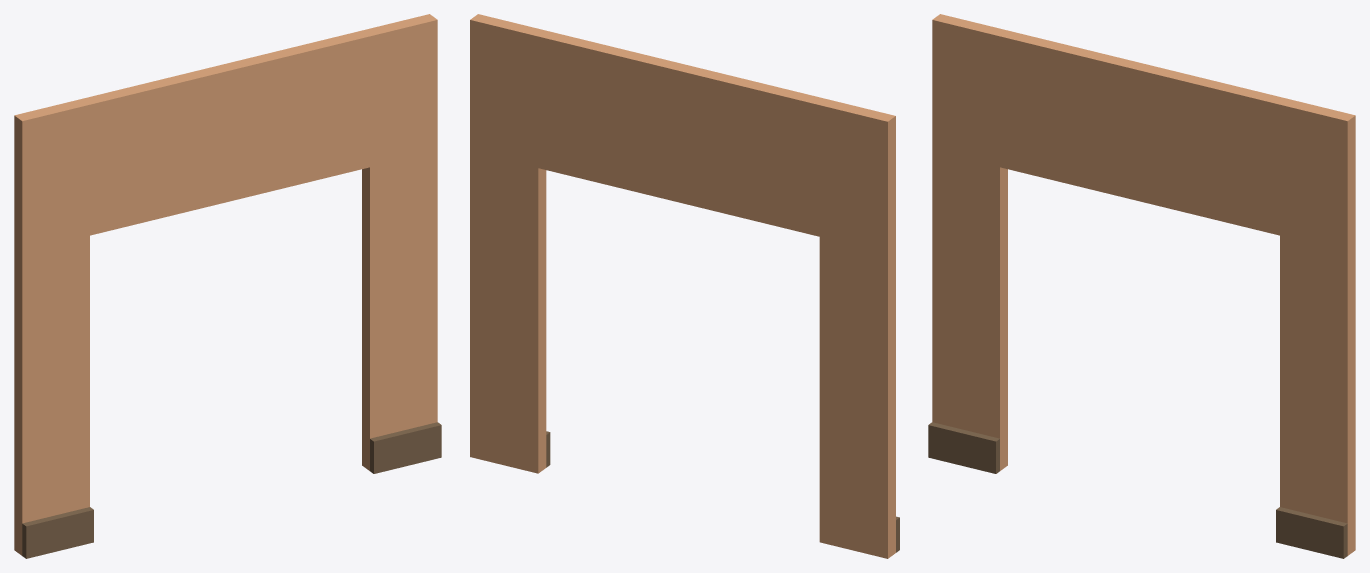
File: Mesh_WallBaseboard_D4.fbx
3 renders of one model, left to right at view 1: azimuth 30°, elevation 25°; view 2: azimuth 150°, elevation 25°; view 3: azimuth 330°, elevation 25°, orthographic.
Visible parts, largest first — view 1: Mesh_WallBaseboard_D4; view 2: Mesh_WallBaseboard_D4; view 3: Mesh_WallBaseboard_D4.
Part boxes in pixels (box(x1,y1,x2,y2)): Mesh_WallBaseboard_D4: box(14, 14, 441, 558); Mesh_WallBaseboard_D4: box(470, 14, 899, 558); Mesh_WallBaseboard_D4: box(928, 14, 1355, 558).
Bounding box in the file's own units: 3 × 3 × 0.15.
